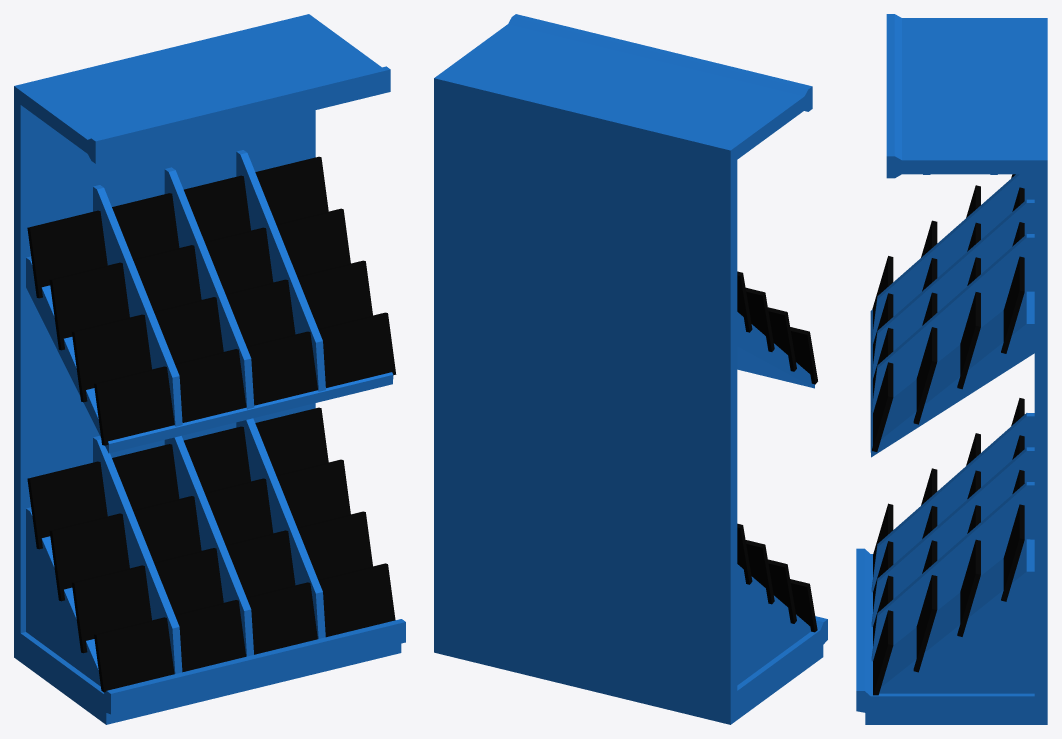
The model's file is SM_styling_6.fbx.
3 views of the same model, side by side, from view 1: azimuth 30°, elevation 25°; view 2: azimuth 150°, elevation 25°; view 3: azimuth 270°, elevation 25° (orthographic).
Parts seen in each view (by area): view 1: Cube_1; view 2: Cube_1; view 3: Cube_1.
Boxes of the visible parts, x1,y1,x2,y2 form: Cube_1: (14,14,405,724); Cube_1: (434,14,827,724); Cube_1: (856,14,1047,724).
Size of the model in its own units: 110 by 205 by 62.51.
